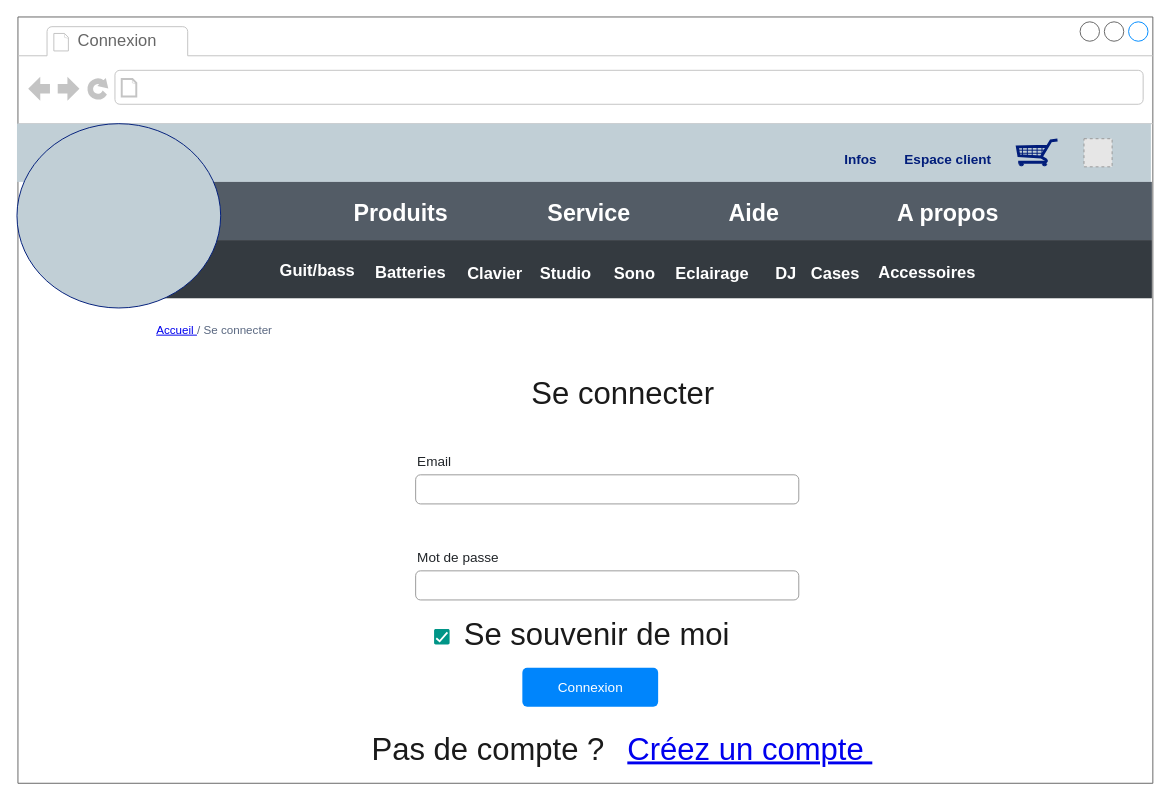
Image size: 1170x800. Some labels were removed from this diagram. Grey dashed boxes stand in for pictures. The box of each missing label's shape, as (x1, y1, x2, y2) in pixels:
https://villagegreen.com/signin: (143, 74, 387, 100)
LOGO: (16, 123, 221, 308)
